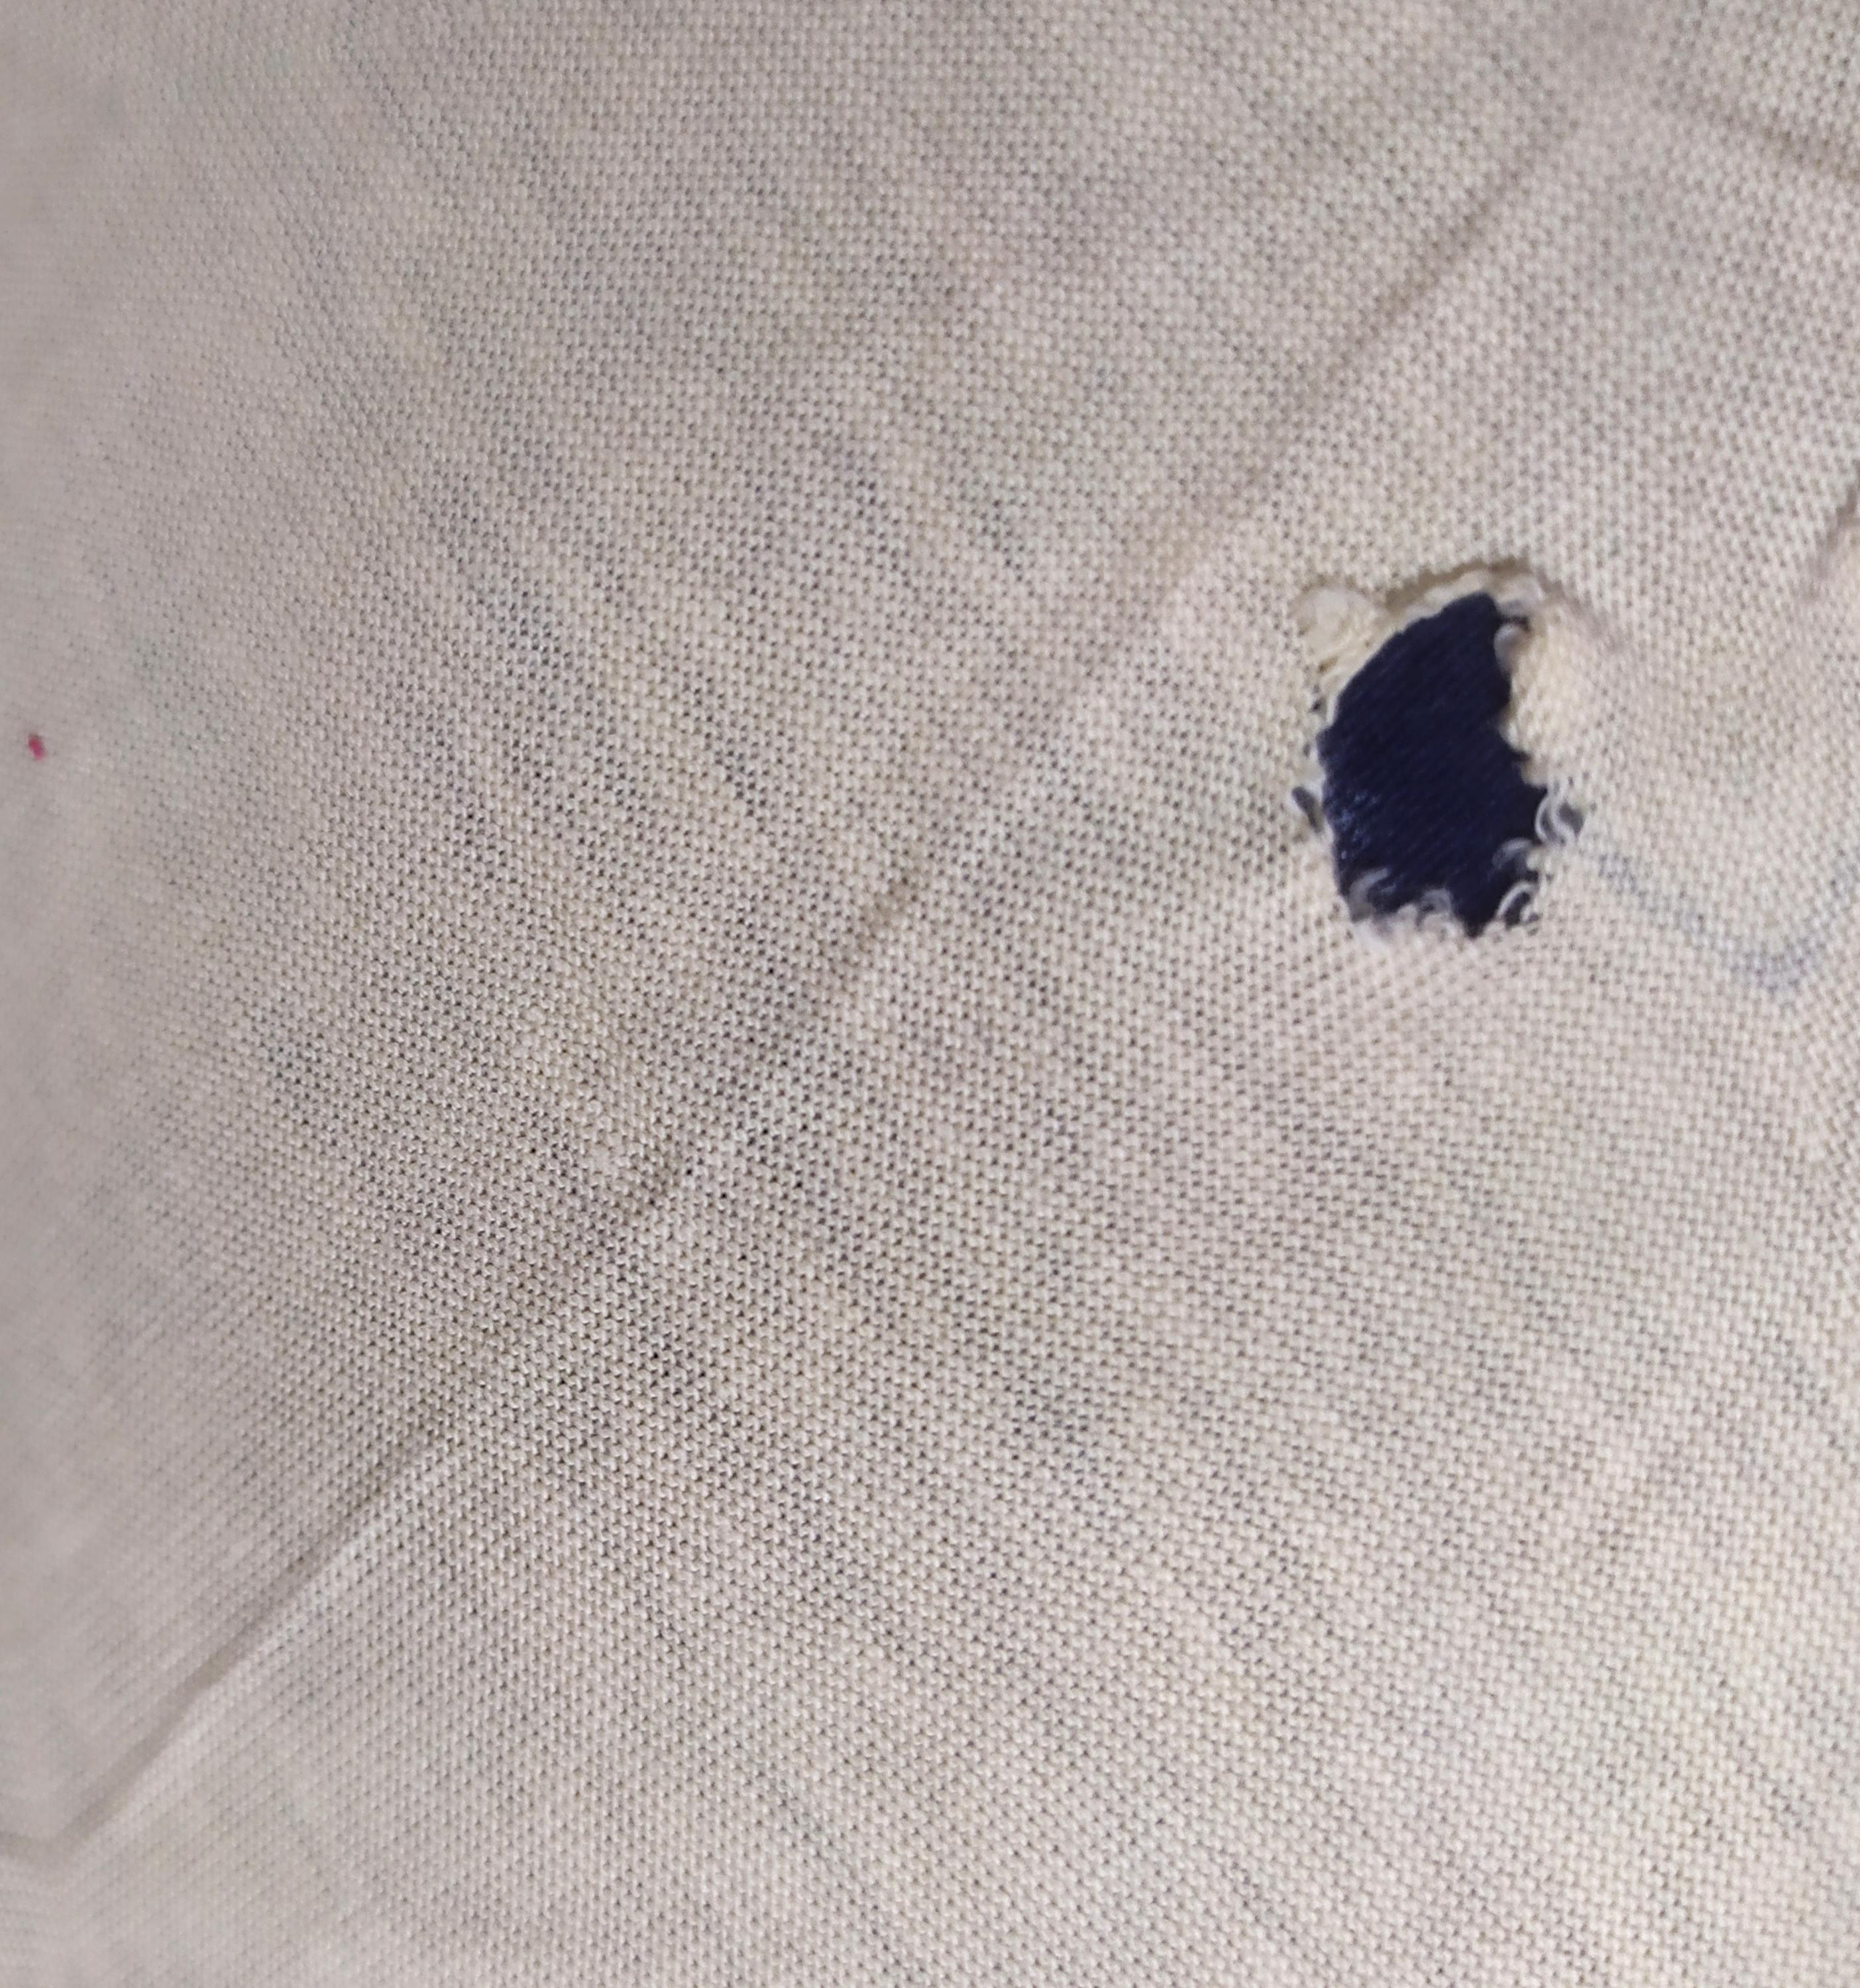hole: (1274, 539, 1608, 962)
